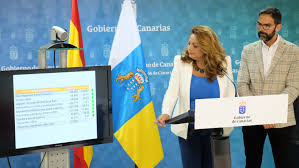person: (173, 25, 230, 91), (242, 9, 292, 71)
